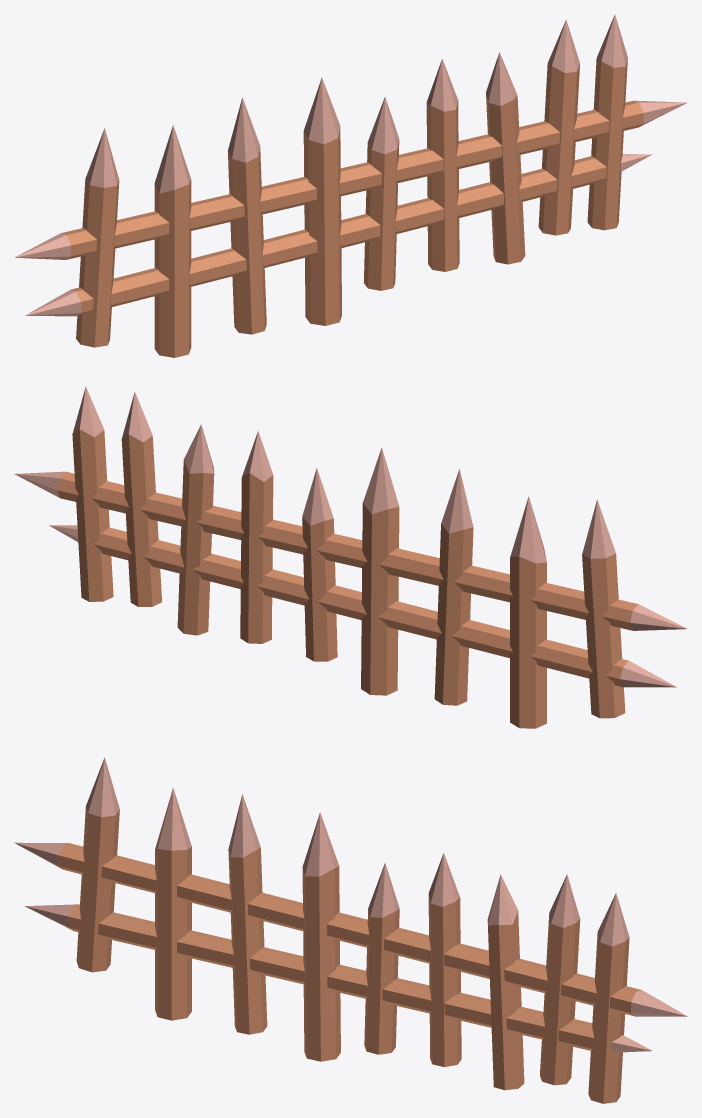
The model's file is Fence.fbx.
The picture shows the model from 3 angles, top to bottom: view 1: azimuth 30°, elevation 25°; view 2: azimuth 150°, elevation 25°; view 3: azimuth 330°, elevation 25°; orthographic projection.
Parts seen in each view (by area): view 1: Fence; view 2: Fence; view 3: Fence.
Boxes of the visible parts, left/top/right/bottom form: Fence: left=14, top=14, right=687, bottom=357; Fence: left=14, top=386, right=687, bottom=728; Fence: left=14, top=757, right=687, bottom=1103.
Size of the model in its own units: 1369 by 472 by 66.24.
